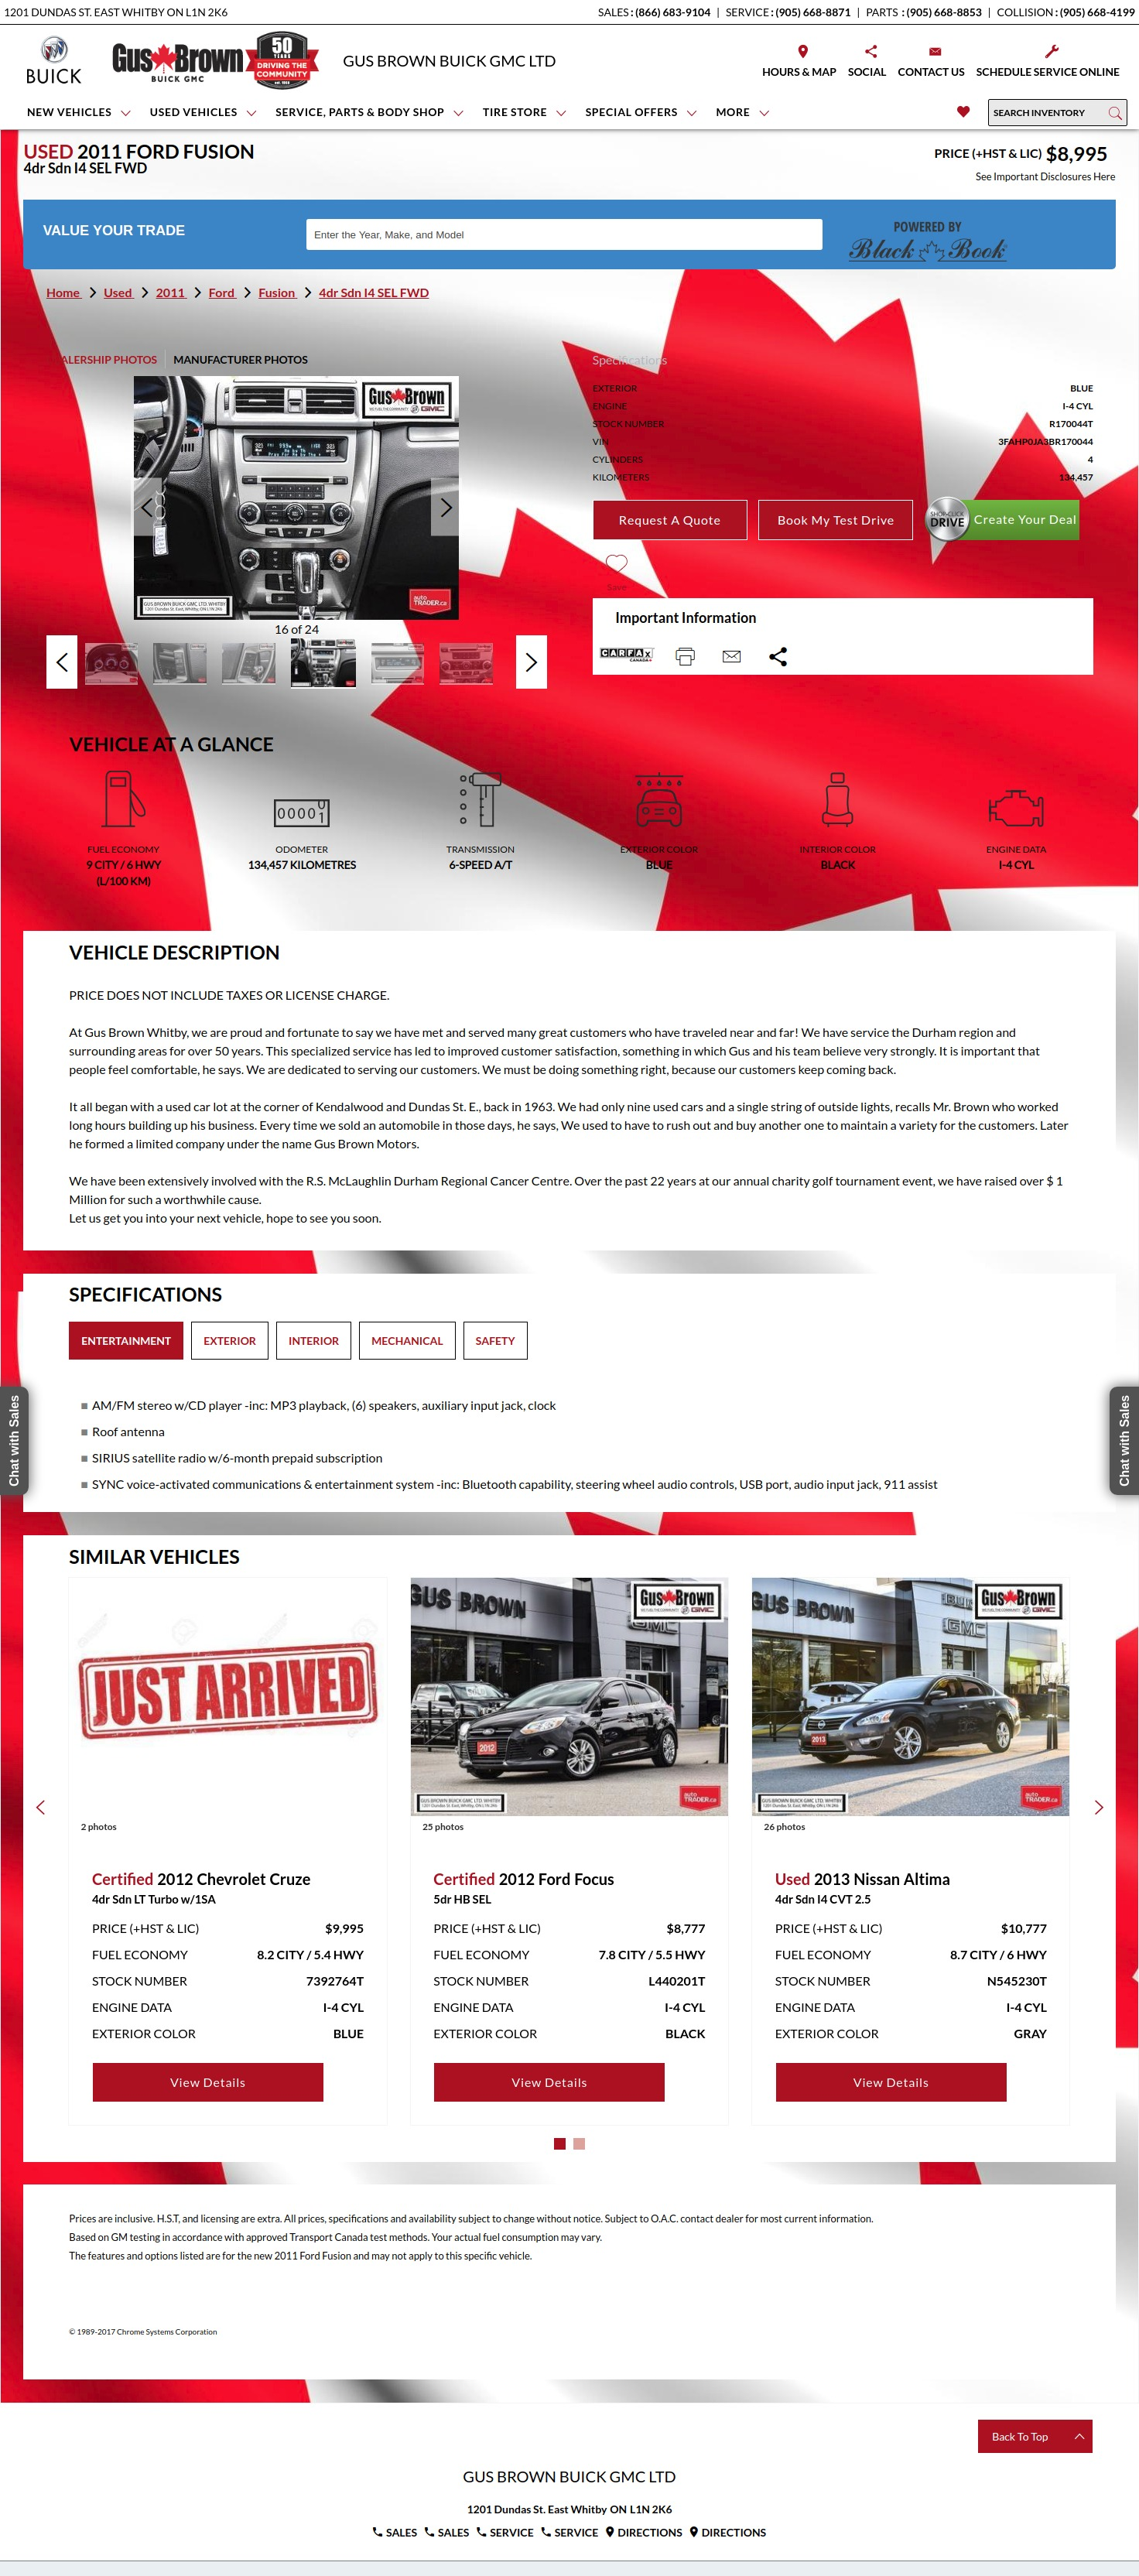car: (518, 637, 547, 688)
